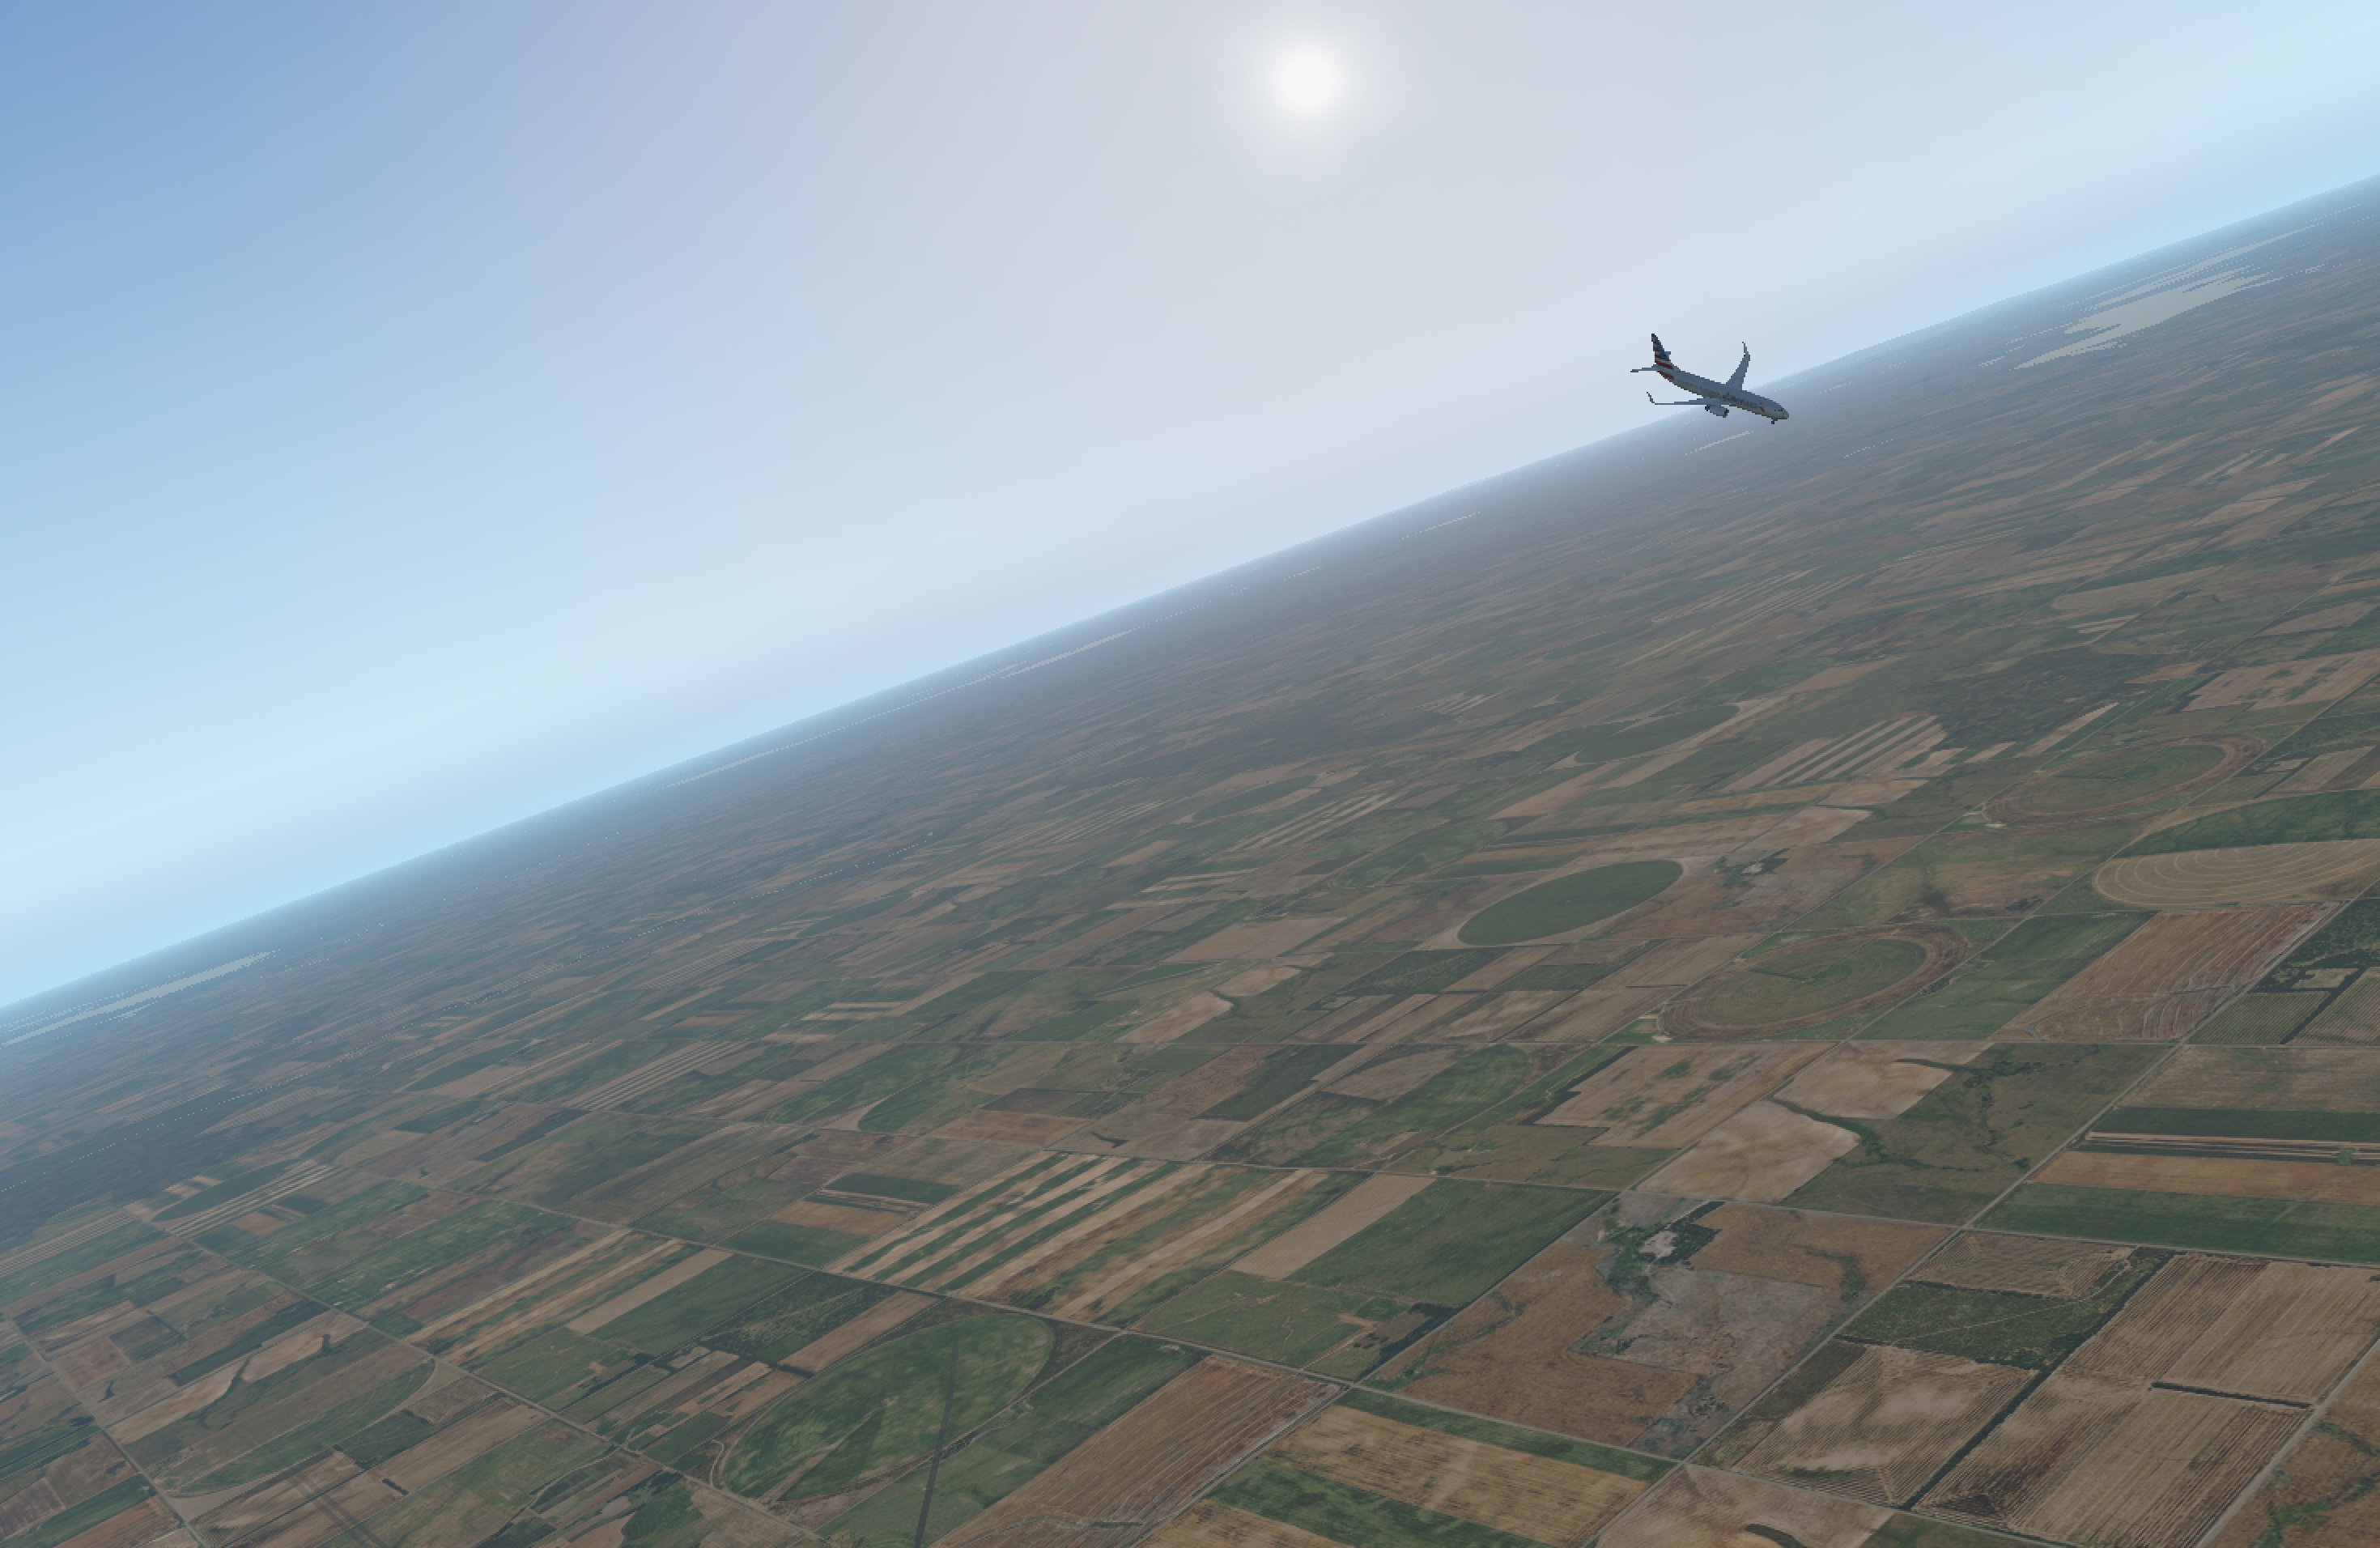aircraft: (1639, 364, 1804, 427)
